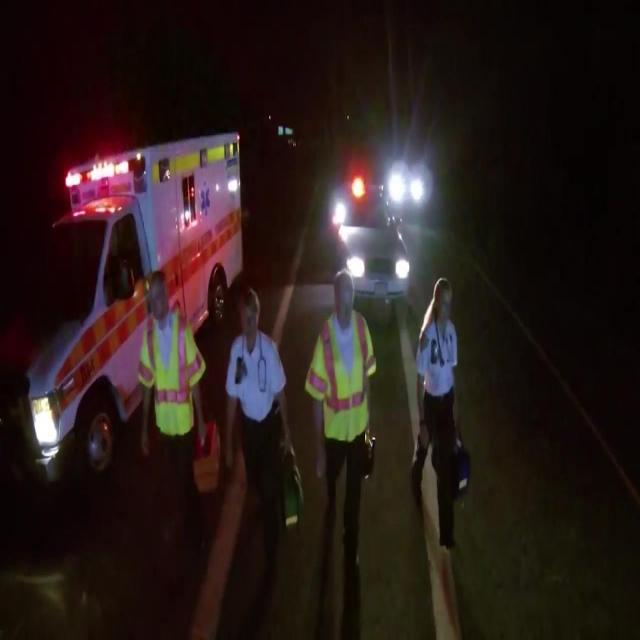Reflective-Jacket: (304, 310, 380, 460), (134, 313, 208, 449)
